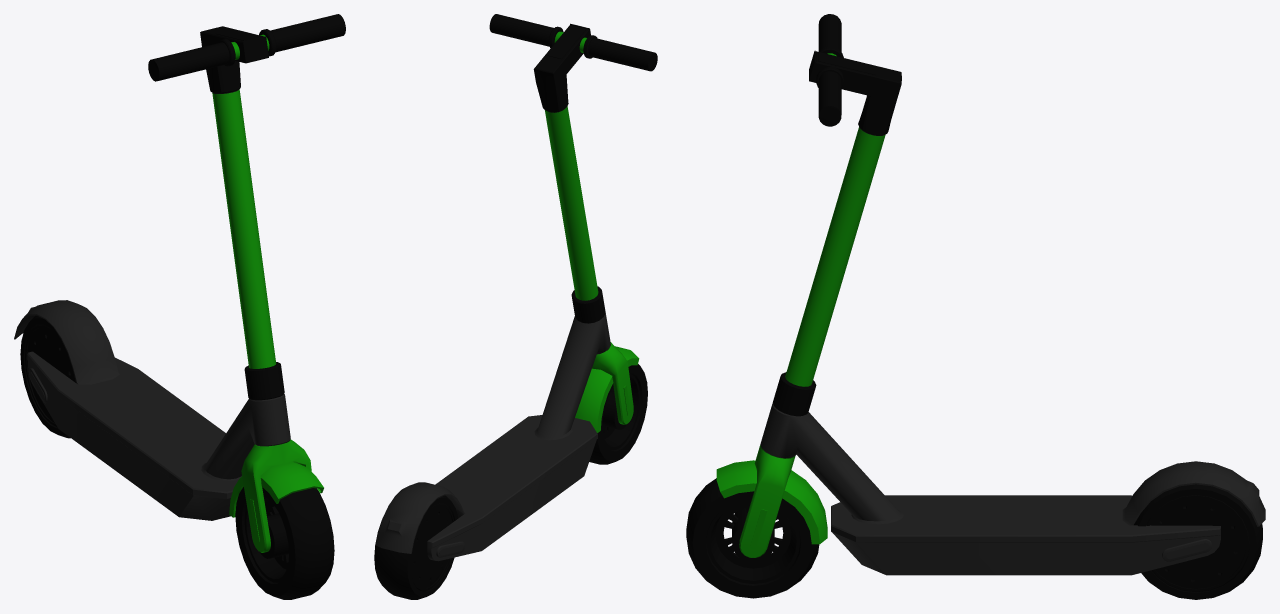
The model's file is Scooter_6.fbx.
3 views of the same model, side by side, from view 1: azimuth 30°, elevation 25°; view 2: azimuth 150°, elevation 25°; view 3: azimuth 270°, elevation 25° (orthographic). The views are drawn at different scales.
Visible parts, largest first — view 1: main.001, handlebar.001, front_wheel.001, back_wheel.001, steering.001; view 2: main.001, handlebar.001, back_wheel.001, front_wheel.001, steering.001; view 3: main.001, handlebar.001, front_wheel.001, back_wheel.001, steering.001.
Boxes of the visible parts, left/top/right/bottom form: main.001: left=14, top=300, right=290, bottom=520; handlebar.001: left=148, top=14, right=345, bottom=552; front_wheel.001: left=235, top=486, right=334, bottom=599; back_wheel.001: left=20, top=315, right=75, bottom=438; steering.001: left=244, top=362, right=284, bottom=400; main.001: left=375, top=313, right=610, bottom=561; handlebar.001: left=489, top=14, right=657, bottom=432; back_wheel.001: left=374, top=495, right=458, bottom=599; front_wheel.001: left=589, top=364, right=647, bottom=464; steering.001: left=571, top=286, right=605, bottom=323; main.001: left=760, top=403, right=1265, bottom=575; handlebar.001: left=716, top=14, right=901, bottom=557; front_wheel.001: left=686, top=478, right=819, bottom=598; back_wheel.001: left=1134, top=484, right=1262, bottom=599; steering.001: left=772, top=372, right=816, bottom=416.
Bounding box in the file's own units: 43.48 × 117 × 115.
